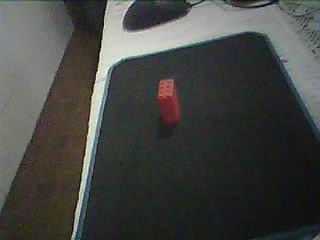lego: (156, 78, 179, 124)
